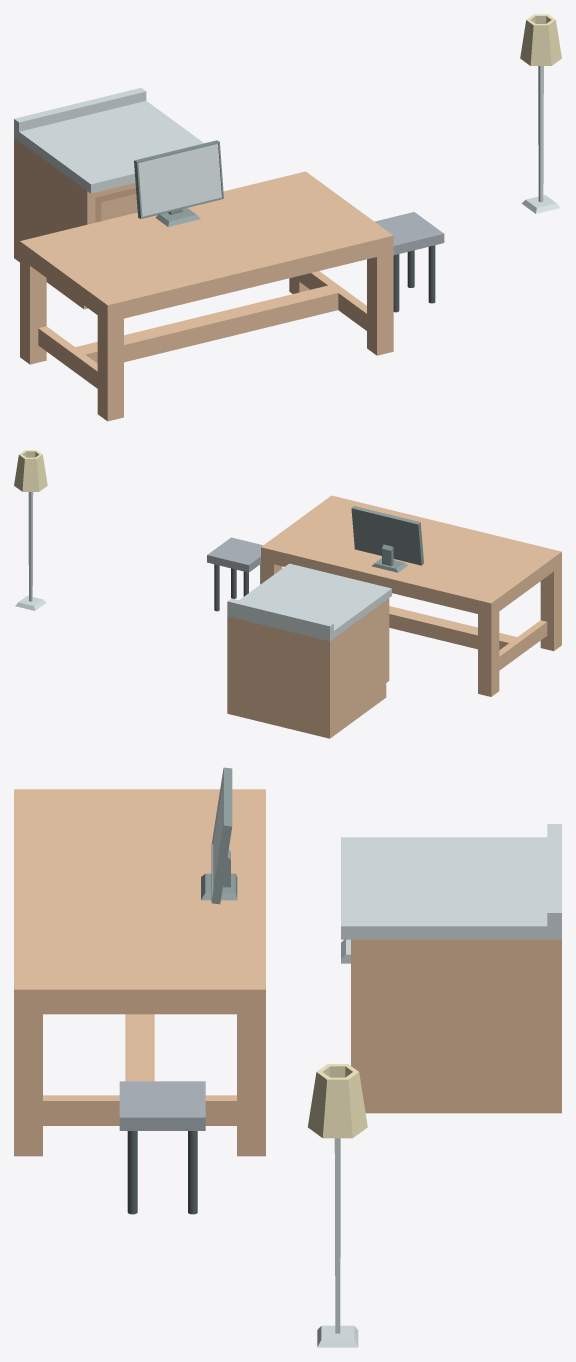
The picture shows the model from 3 angles, top to bottom: view 1: azimuth 30°, elevation 25°; view 2: azimuth 150°, elevation 25°; view 3: azimuth 270°, elevation 25°; orthographic projection. The views are drawn at different scales.
Parts seen in each view (by area): view 1: table_green__table(Clone), cabinet_blue__kitchenCabinet(Clone), monitor_gray__computerScreen(Clone), lamp_white__lampRoundFloor(Clone), stool_purple__stool_purple seat, cabinet_blue__door; view 2: cabinet_blue__kitchenCabinet(Clone), table_green__table(Clone), monitor_gray__computerScreen(Clone), lamp_white__lampRoundFloor(Clone), stool_purple__stool_purple seat; view 3: table_green__table(Clone), cabinet_blue__kitchenCabinet(Clone), lamp_white__lampRoundFloor(Clone), stool_purple__stool_purple seat, monitor_gray__computerScreen(Clone), stool_purple__stool_purple leg.002, stool_purple__stool_purple leg.003.
Part boxes in pixels (x1,y1,x2,y2): table_green__table(Clone): [20, 171, 393, 421]; cabinet_blue__kitchenCabinet(Clone): [14, 88, 203, 309]; monitor_gray__computerScreen(Clone): [134, 140, 223, 226]; lamp_white__lampRoundFloor(Clone): [520, 14, 561, 213]; stool_purple__stool_purple seat: [375, 212, 444, 255]; cabinet_blue__door: [95, 187, 137, 222]; cabinet_blue__kitchenCabinet(Clone): [227, 563, 391, 738]; table_green__table(Clone): [261, 495, 561, 696]; monitor_gray__computerScreen(Clone): [351, 506, 423, 572]; lamp_white__lampRoundFloor(Clone): [14, 450, 47, 610]; stool_purple__stool_purple seat: [207, 537, 262, 572]; table_green__table(Clone): [14, 789, 265, 1156]; cabinet_blue__kitchenCabinet(Clone): [341, 824, 561, 1113]; lamp_white__lampRoundFloor(Clone): [308, 1064, 367, 1347]; stool_purple__stool_purple seat: [119, 1081, 205, 1130]; monitor_gray__computerScreen(Clone): [201, 767, 237, 904]; stool_purple__stool_purple leg.002: [127, 1131, 137, 1214]; stool_purple__stool_purple leg.003: [188, 1131, 197, 1214].
Bounding box in the file's own units: 3.8 × 1.2 × 2.23.
